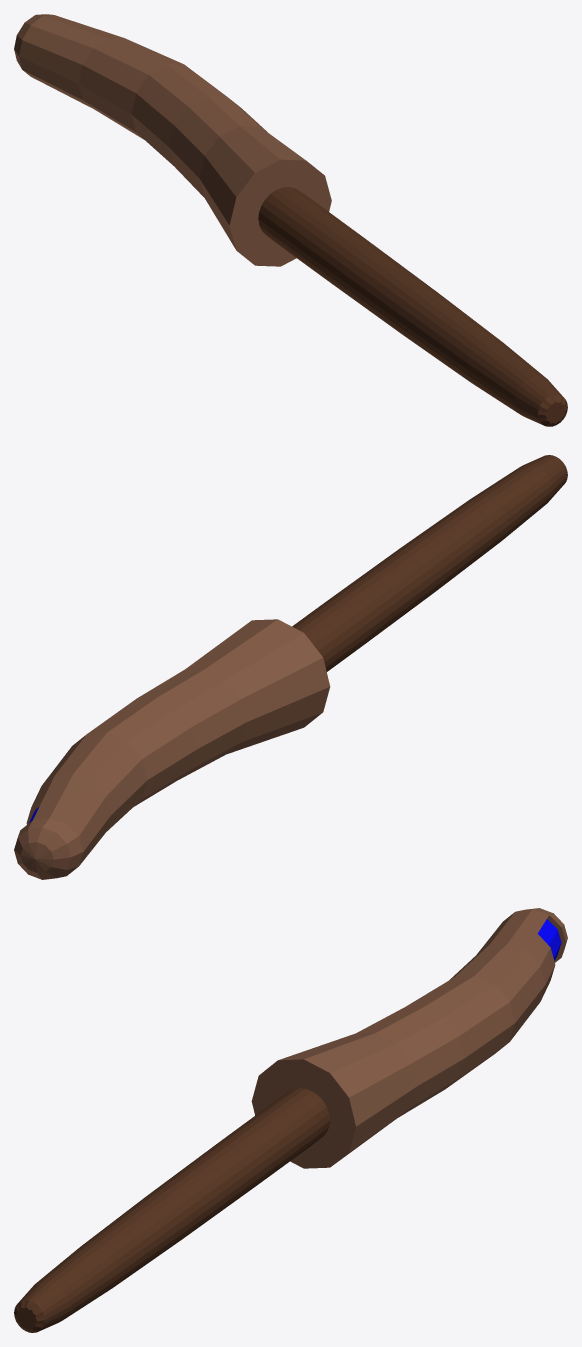
File: Wand 20.glb
The picture shows the model from 3 angles, top to bottom: view 1: azimuth 30°, elevation 25°; view 2: azimuth 150°, elevation 25°; view 3: azimuth 330°, elevation 25°; orthographic projection. The views are drawn at different scales.
Visible parts, largest first — view 1: GeneratedWand; view 2: GeneratedWand; view 3: GeneratedWand.
Part boxes in pixels (x1=…): GeneratedWand: x1=14, y1=14, x2=567, y2=426; GeneratedWand: x1=14, y1=455, x2=567, y2=879; GeneratedWand: x1=14, y1=908, x2=567, y2=1332.
Bounding box in the file's own units: 0.0644 × 0.0572 × 0.502.
